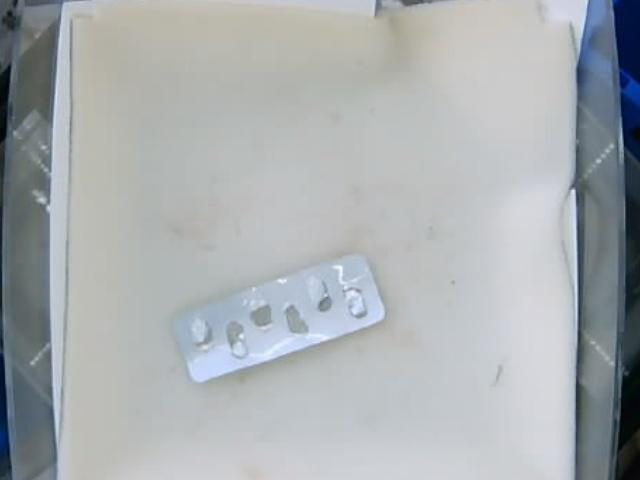Medicine: (174, 254, 385, 384)
